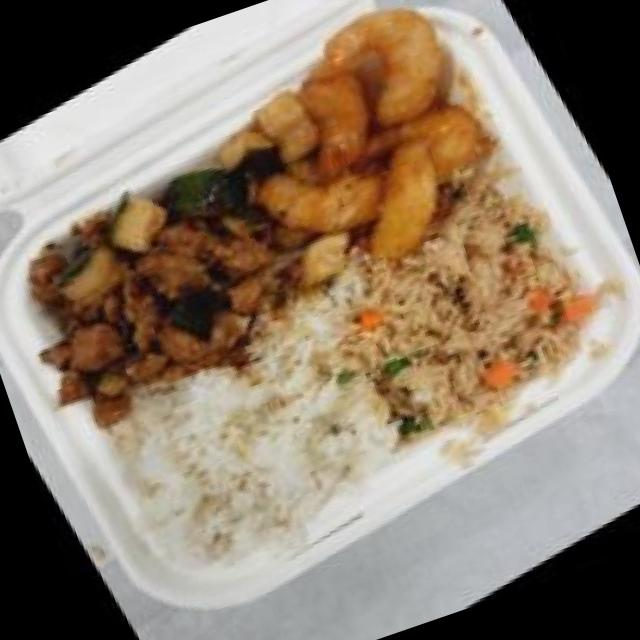Fried Rice: (292, 145, 640, 481)
Honey Walnut Shrimp: (162, 0, 557, 332)
Kung Pao Chicken: (0, 119, 341, 461)
White Steamed Rice: (70, 285, 432, 614)
